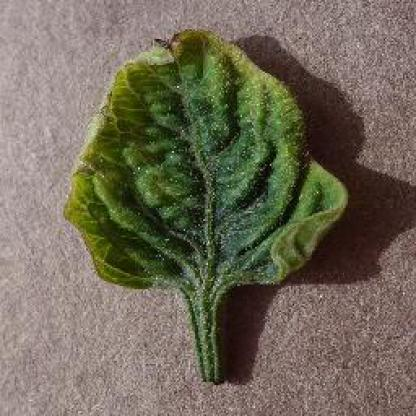bad leaf: (58, 4, 348, 325)
